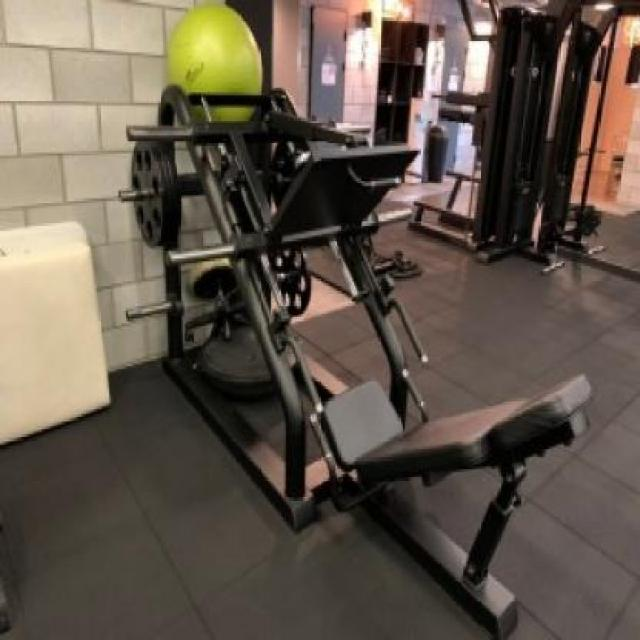leg press: (100, 46, 605, 640)
